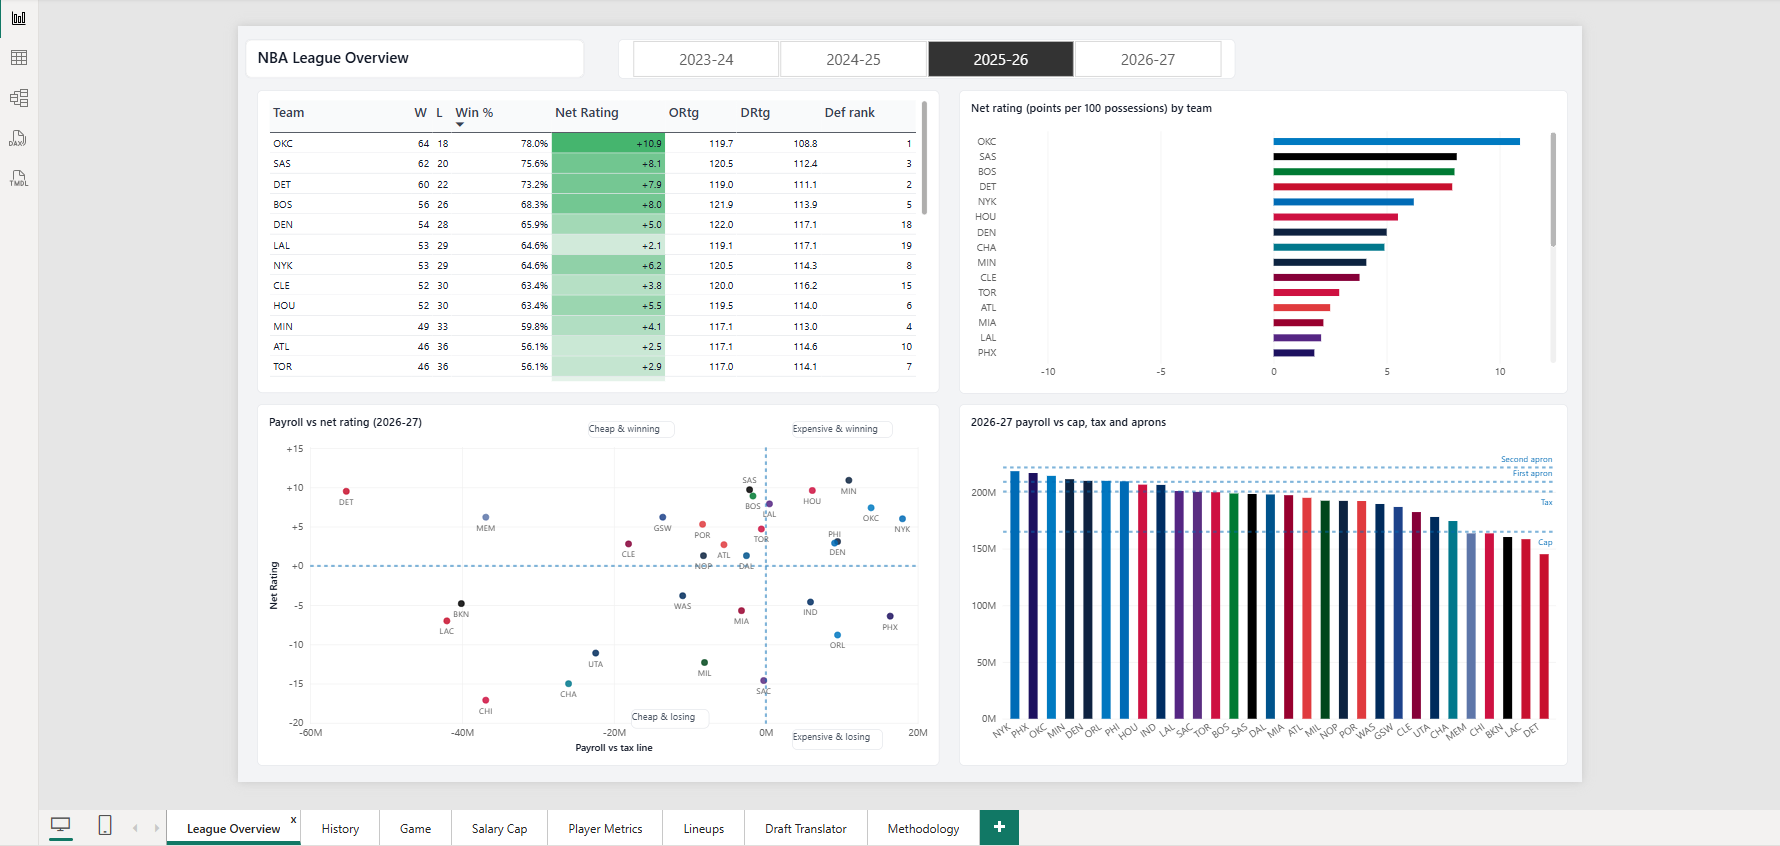

Layout of this report page (visuals, bound fields, positions):
{"tool":"powerbi","page":{"name":"League Overview","canvas":[1920,1080],"ordinal":0},"visuals":[{"type":"textbox","box":[0,0,472.5,52.9],"z":0},{"type":"slicer","fields":{"Values":["Seasons.season"]},"box":[488.2,0,472.5,52.9],"z":1000},{"type":"tableEx","fields":{"Values":["TeamOverview.team","TeamOverview.wins","TeamOverview.losses","TeamOverview.win_pct","TeamOverview.Net Rating","TeamOverview.ortg","TeamOverview.drtg","TeamOverview.def_rank"]},"box":[57.4,67.2,957.4,526.2],"z":2000},{"type":"clusteredBarChart","fields":{"Category":["TeamOverview.team"],"Y":["Avg(TeamOverview.net)"]},"box":[1050.8,67.2,870.5,526.2],"z":3000},{"type":"scatterChart","title":"2026-27: payroll vs tax line x net rating","fields":{"Category":["TeamOverview.team"],"X":["Sum(TeamOverview.vs_tax)"],"Y":["TeamOverview.Net Rating"]},"box":[57.4,603.3,957.4,452.5],"z":4000},{"type":"clusteredColumnChart","title":"2026-27 payroll vs cap, tax and aprons","fields":{"Category":["TeamOverview.team"],"Y":["Sum(TeamOverview.total_salary)"]},"box":[1051,603,869,452],"z":5000}]}

Visuals, with their boxes on the page's 1920x1080 design canvas (x1, y1, x2, y2). These are canvas units, not pixel positions in the 1780x846 screenshot, which may show the page scaled, cropped or inside an application window:
textbox: (x1=0, y1=0, x2=472, y2=53)
slicer - Seasons.season: (x1=488, y1=0, x2=961, y2=53)
tableEx - TeamOverview.team x TeamOverview.wins: (x1=57, y1=67, x2=1015, y2=593)
clusteredBarChart - TeamOverview.team x Avg(TeamOverview.net): (x1=1051, y1=67, x2=1921, y2=593)
"2026-27: payroll vs tax line x net rating" scatterChart: (x1=57, y1=603, x2=1015, y2=1056)
"2026-27 payroll vs cap, tax and aprons" clusteredColumnChart: (x1=1051, y1=603, x2=1920, y2=1055)
